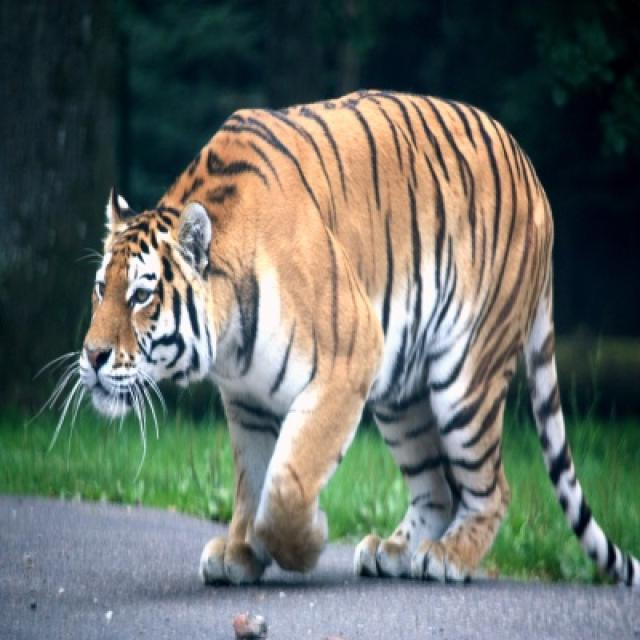Tiger: (78, 91, 638, 586)
